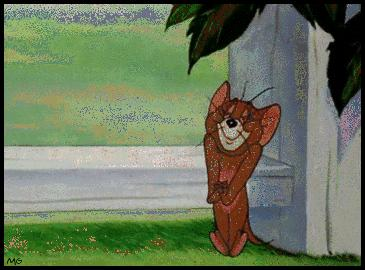jerry: (198, 81, 283, 260)
